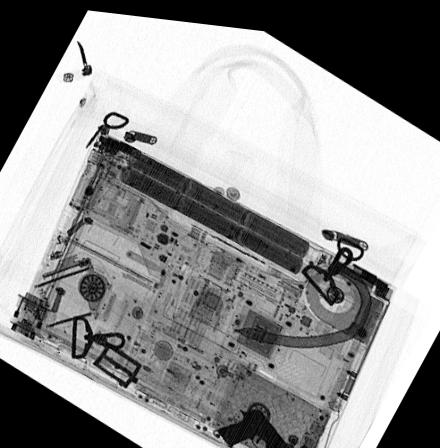Gun: (216, 402, 297, 448)
